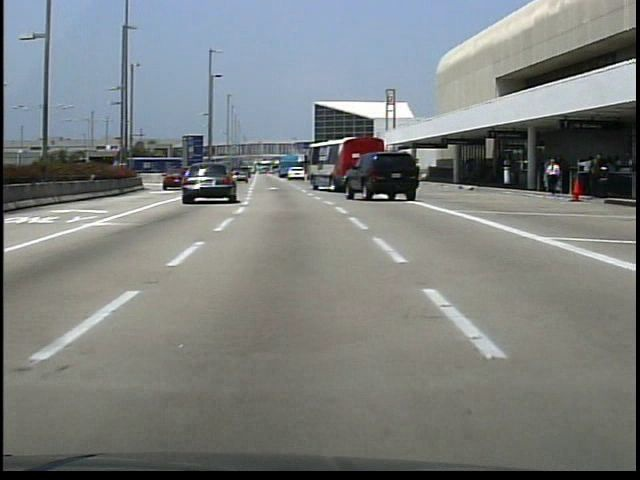person: (544, 157, 564, 198)
